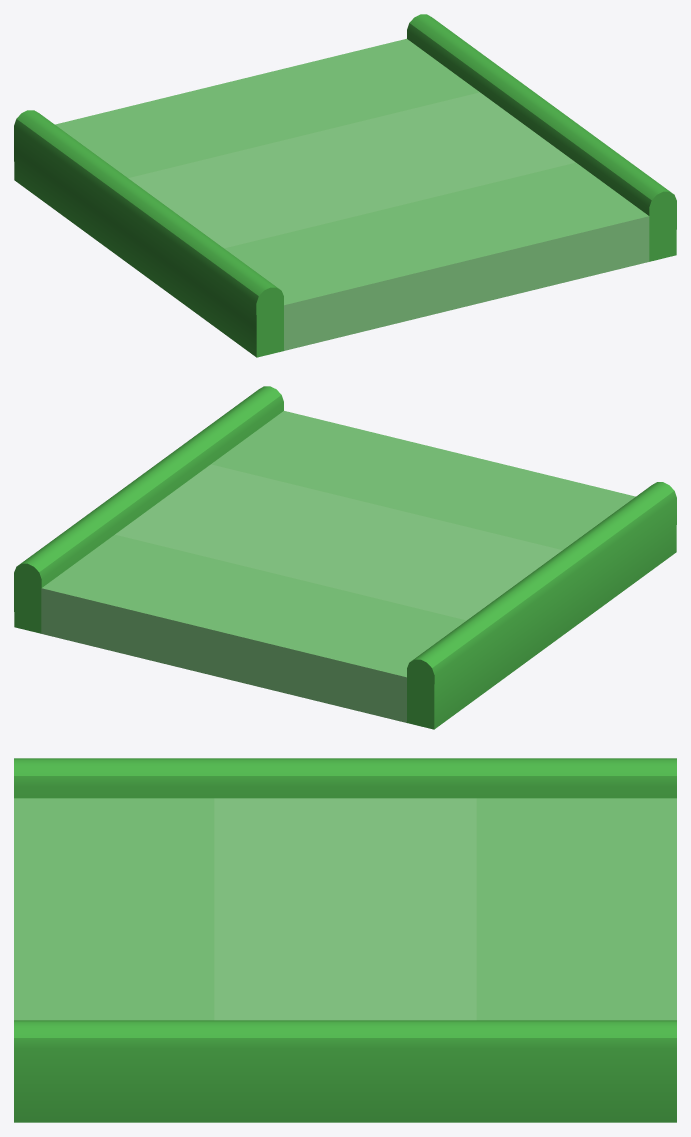
The model's file is Platform A.fbx.
3 renders of one model, top to bottom at view 1: azimuth 30°, elevation 25°; view 2: azimuth 150°, elevation 25°; view 3: azimuth 270°, elevation 25°, orthographic. The views are drawn at different scales.
Parts seen in each view (by area): view 1: Platform A; view 2: Platform A; view 3: Platform A.
Part boxes in pixels (box(x1,y1,x2,y2)): Platform A: box(14, 14, 676, 357); Platform A: box(14, 386, 676, 729); Platform A: box(14, 758, 676, 1122).
Bounding box in the file's own units: 553 × 83.93 × 552.
